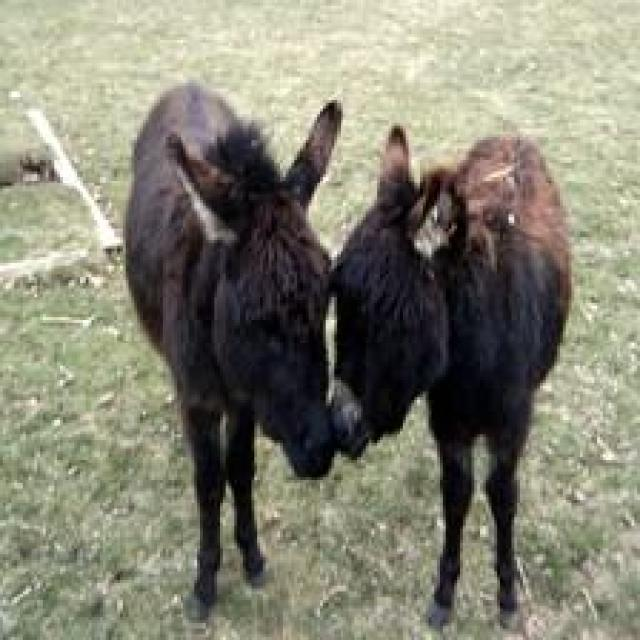Donkey: (326, 120, 571, 631), (120, 77, 343, 634)
